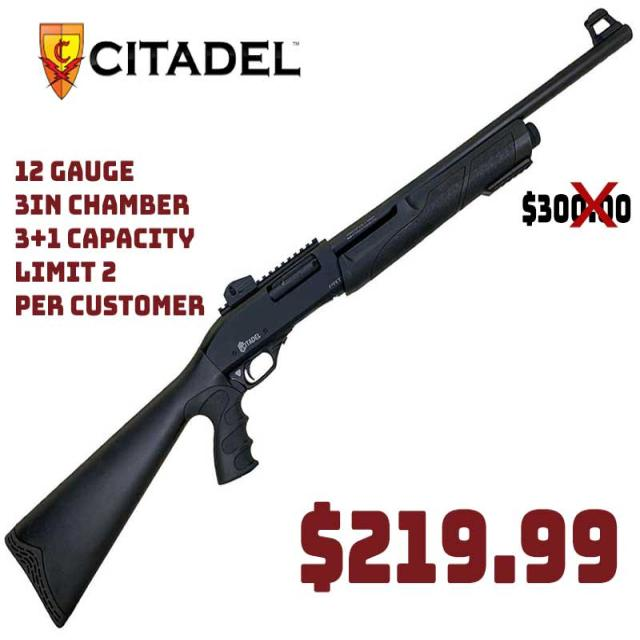ShotGun: (5, 10, 635, 630)
